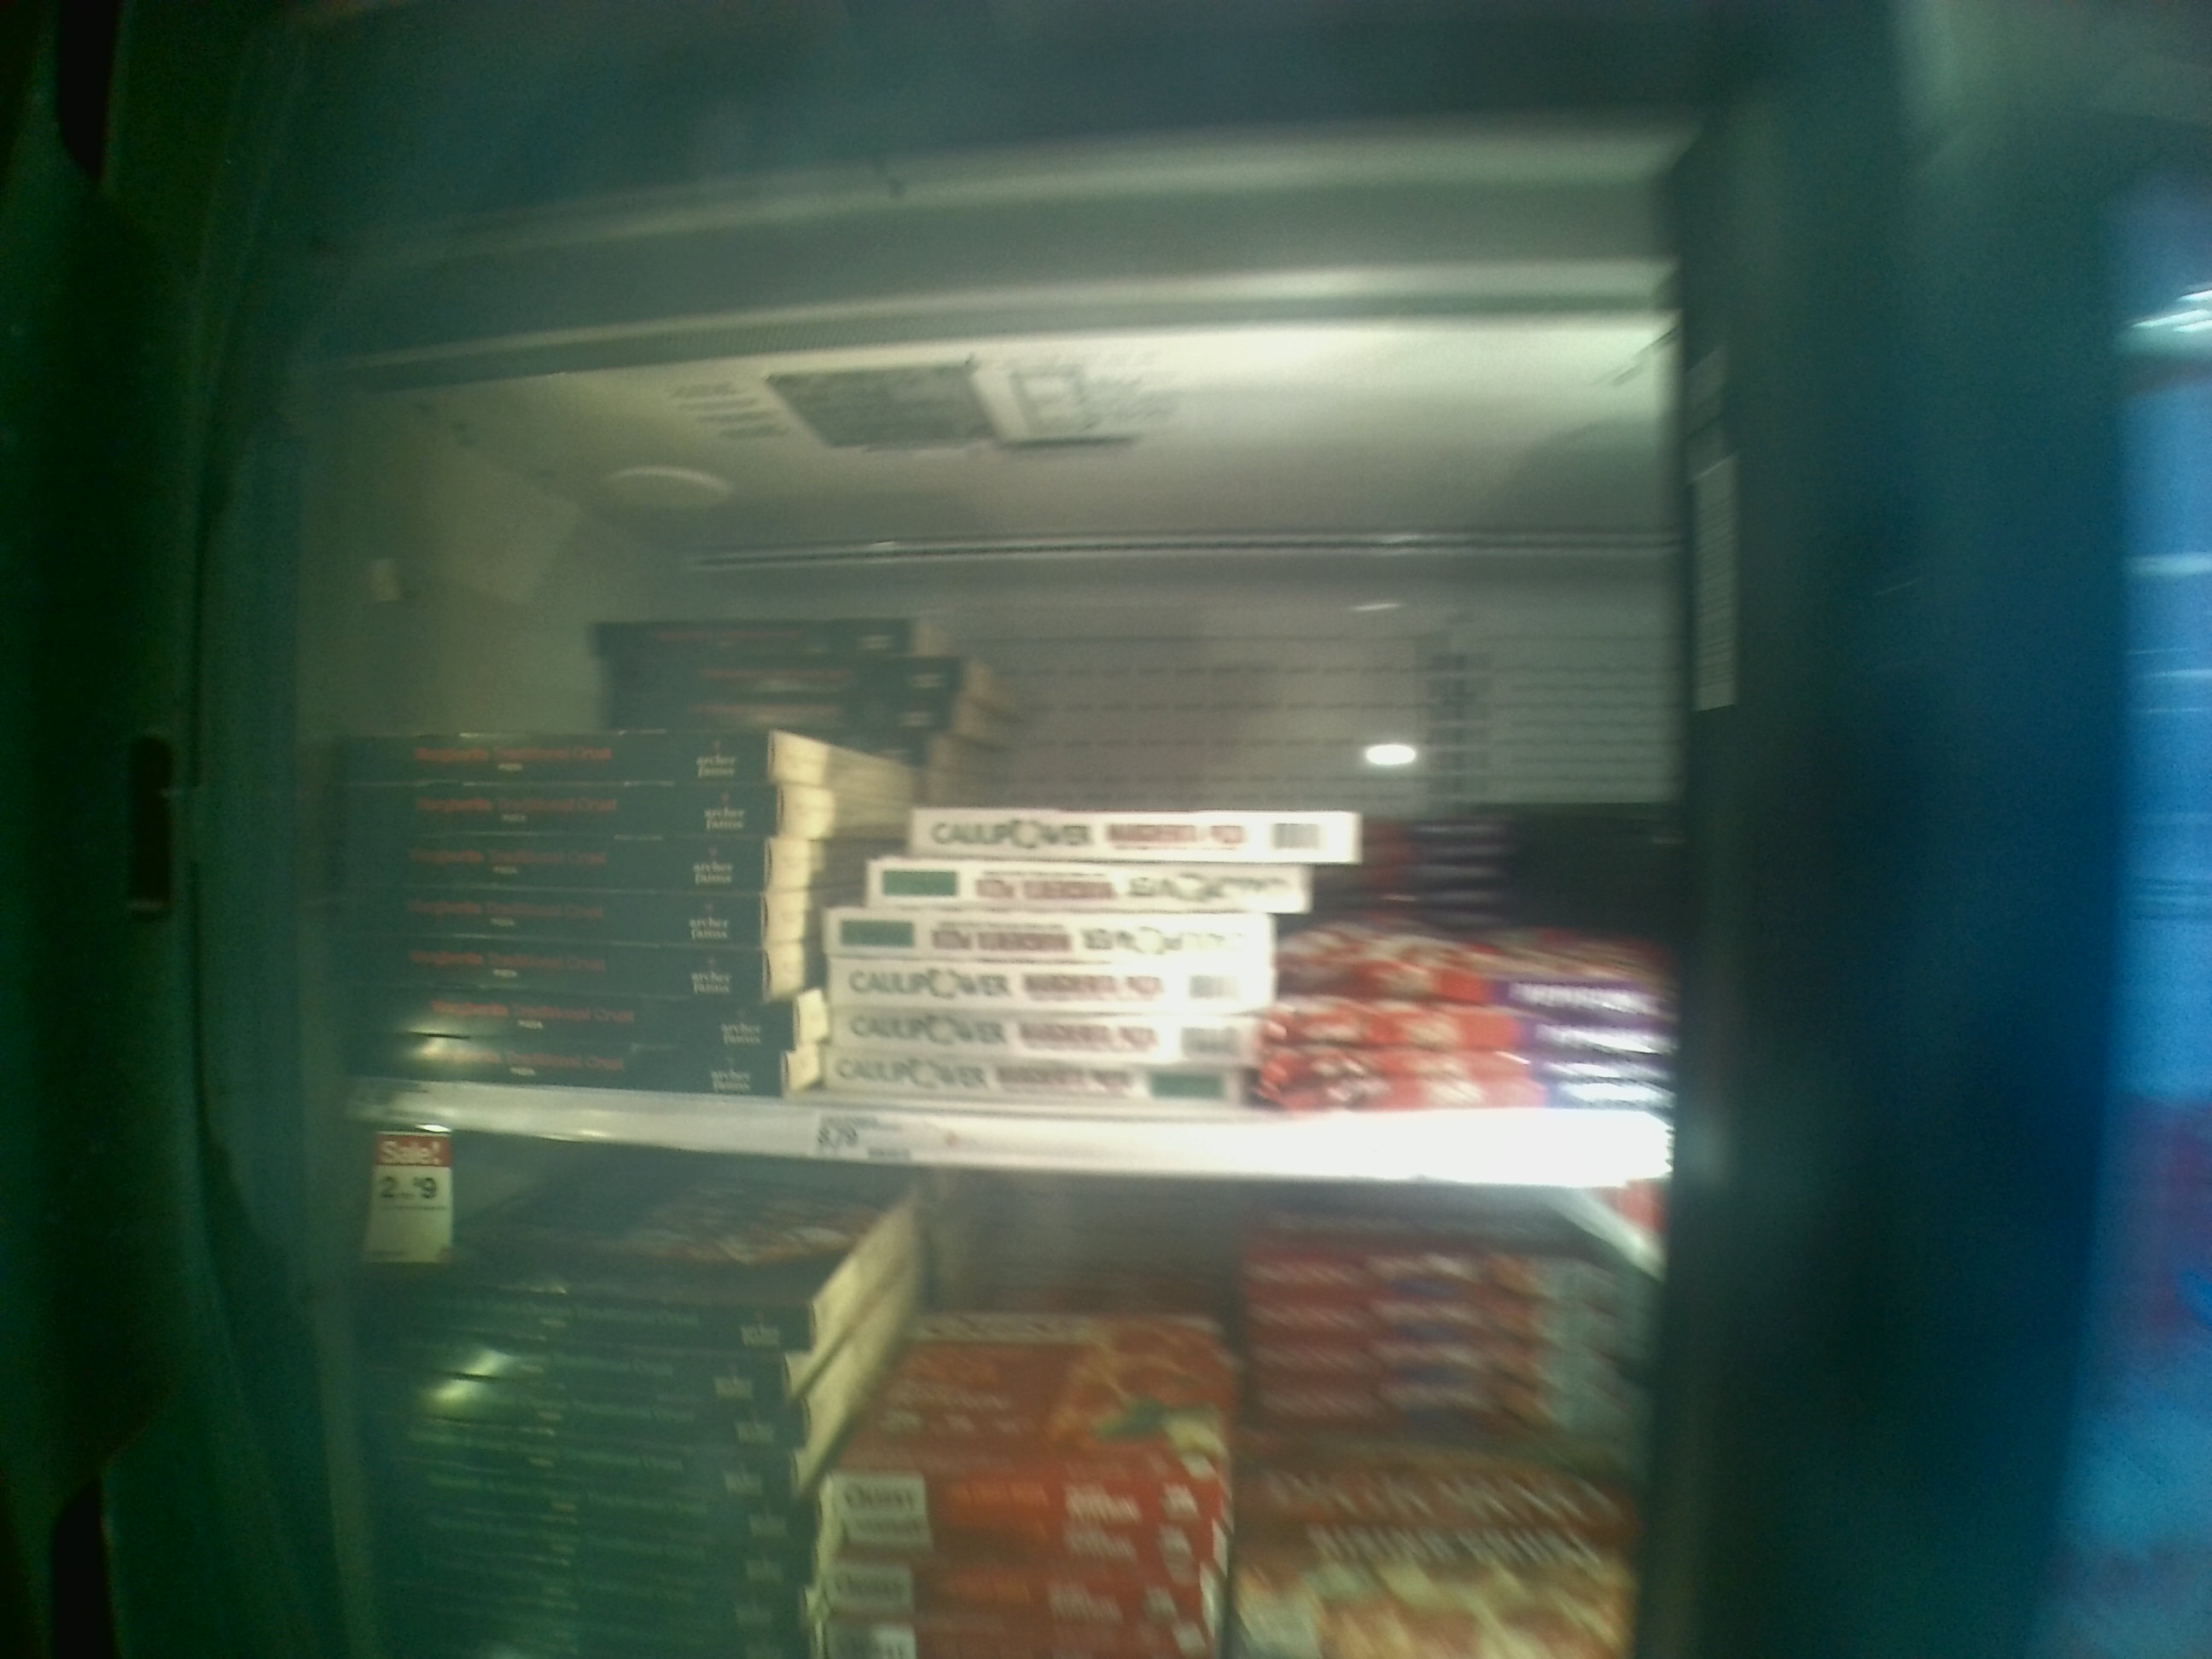shelf: (348, 498, 1674, 1178)
